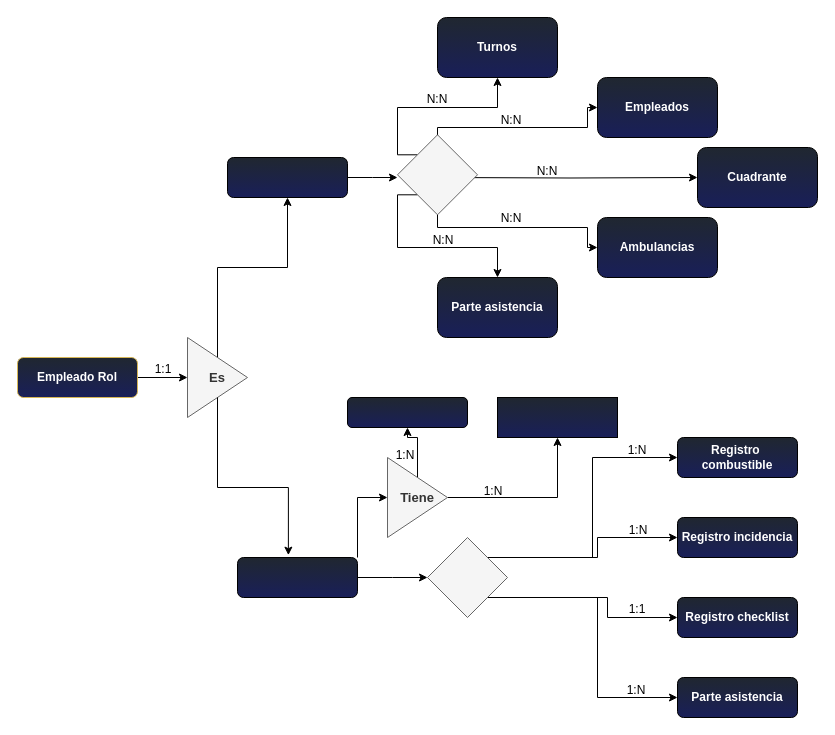
The diagram is 835 pixels wide and 735 high, and some of its shapes have lost their labels. The centre of each missing label's shape, as x and y in pixels:
Administrador: point 287,177
Calendario: point 407,412
Crea: point 467,577
Gestiona: point 437,174
Turno: point 557,417
Técnico sanitario: point 297,577
